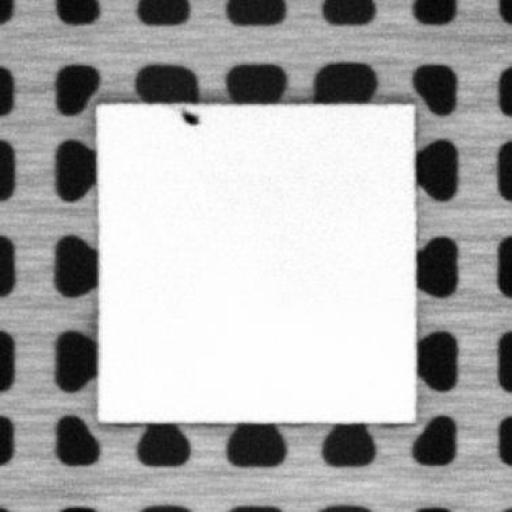DIE_INK: (176, 105, 201, 126)
